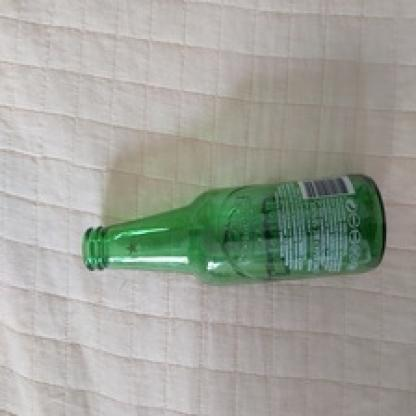Can: (70, 166, 390, 315)
